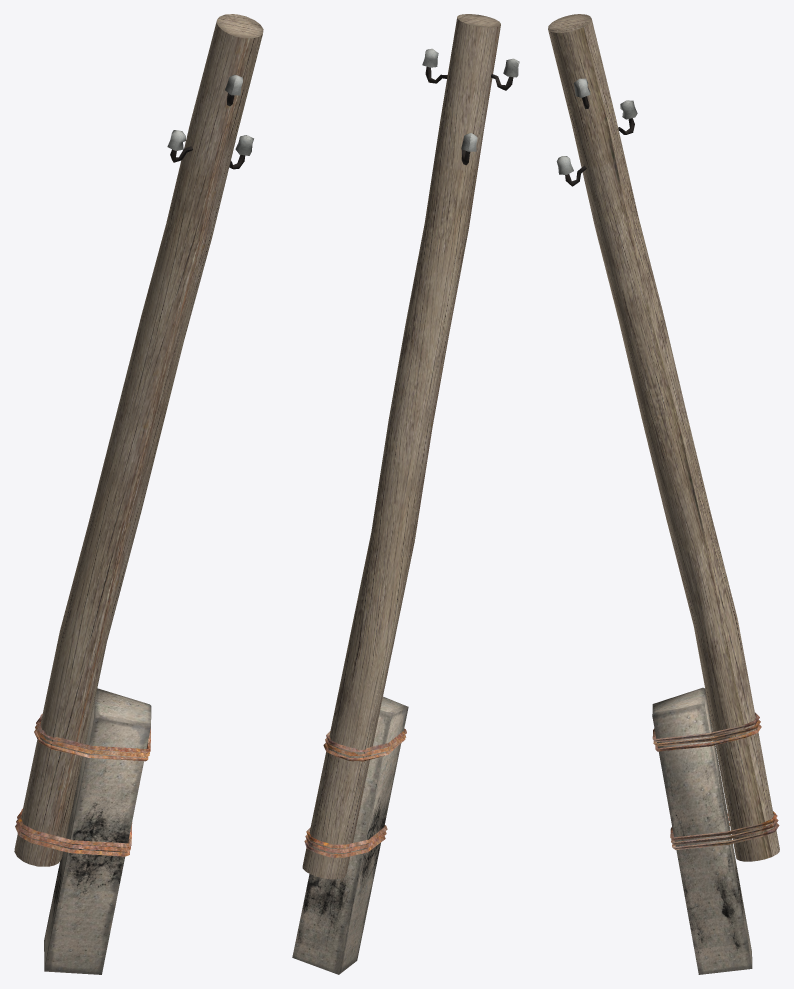
Rendered from prop_streetlight_inclinado.glb.
The picture shows the model from 3 angles, left to right: view 1: azimuth 90°, elevation 25°; view 2: azimuth 150°, elevation 25°; view 3: azimuth 270°, elevation 25°; orthographic projection. The views are drawn at different scales.
Parts seen in each view (by area): view 1: prop_streetlight_inclinado_mesh; view 2: prop_streetlight_inclinado_mesh; view 3: prop_streetlight_inclinado_mesh.
Boxes of the visible parts, left/top/right/bottom form: prop_streetlight_inclinado_mesh: left=14, top=14, right=263, bottom=974; prop_streetlight_inclinado_mesh: left=292, top=14, right=519, bottom=974; prop_streetlight_inclinado_mesh: left=548, top=14, right=779, bottom=974.
Size of the model in its own units: 1.03 by 6.53 by 1.5.
Materials: 4 (4 with a texture image).
